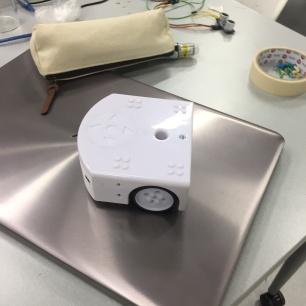thymio: (70, 87, 205, 218)
